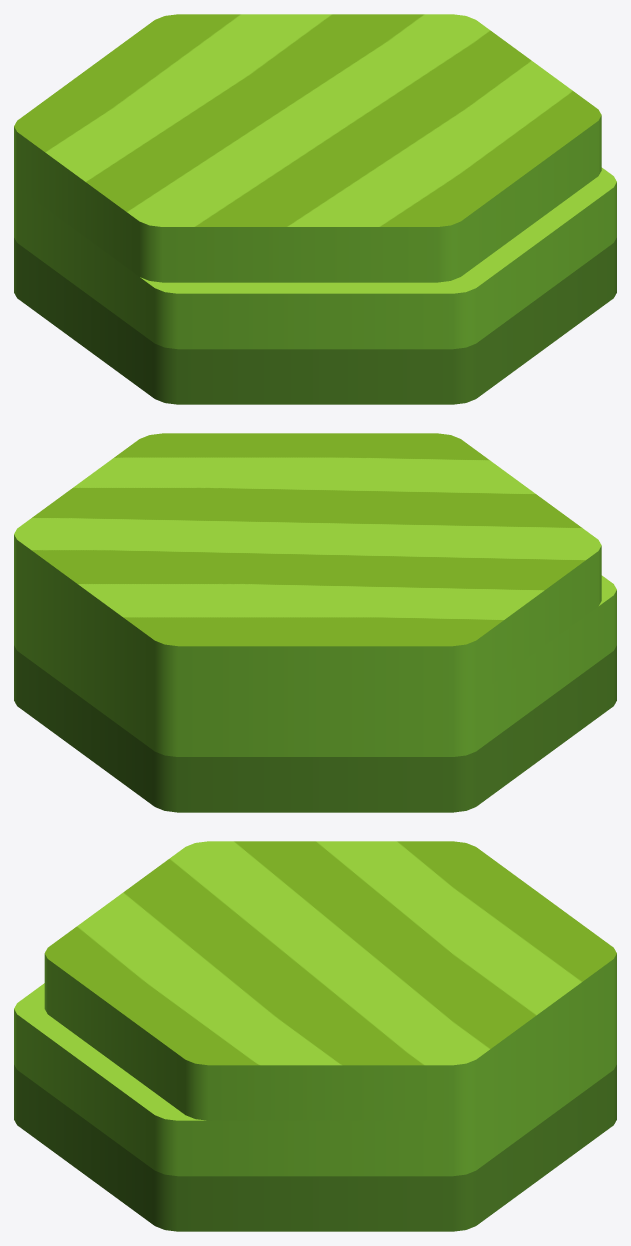
The model's file is Tile Gathered.fbx.
3 renders of one model, top to bottom at view 1: azimuth 30°, elevation 25°; view 2: azimuth 150°, elevation 25°; view 3: azimuth 270°, elevation 25°, orthographic.
Visible parts, largest first — view 1: Tile Gathered; view 2: Tile Gathered; view 3: Tile Gathered.
Part boxes in pixels (x1,y1,x2,y2): Tile Gathered: [14, 14, 616, 404]; Tile Gathered: [14, 433, 616, 812]; Tile Gathered: [14, 841, 616, 1231].
Size of the model in its own units: 0.3464 by 0.12 by 0.3941.
